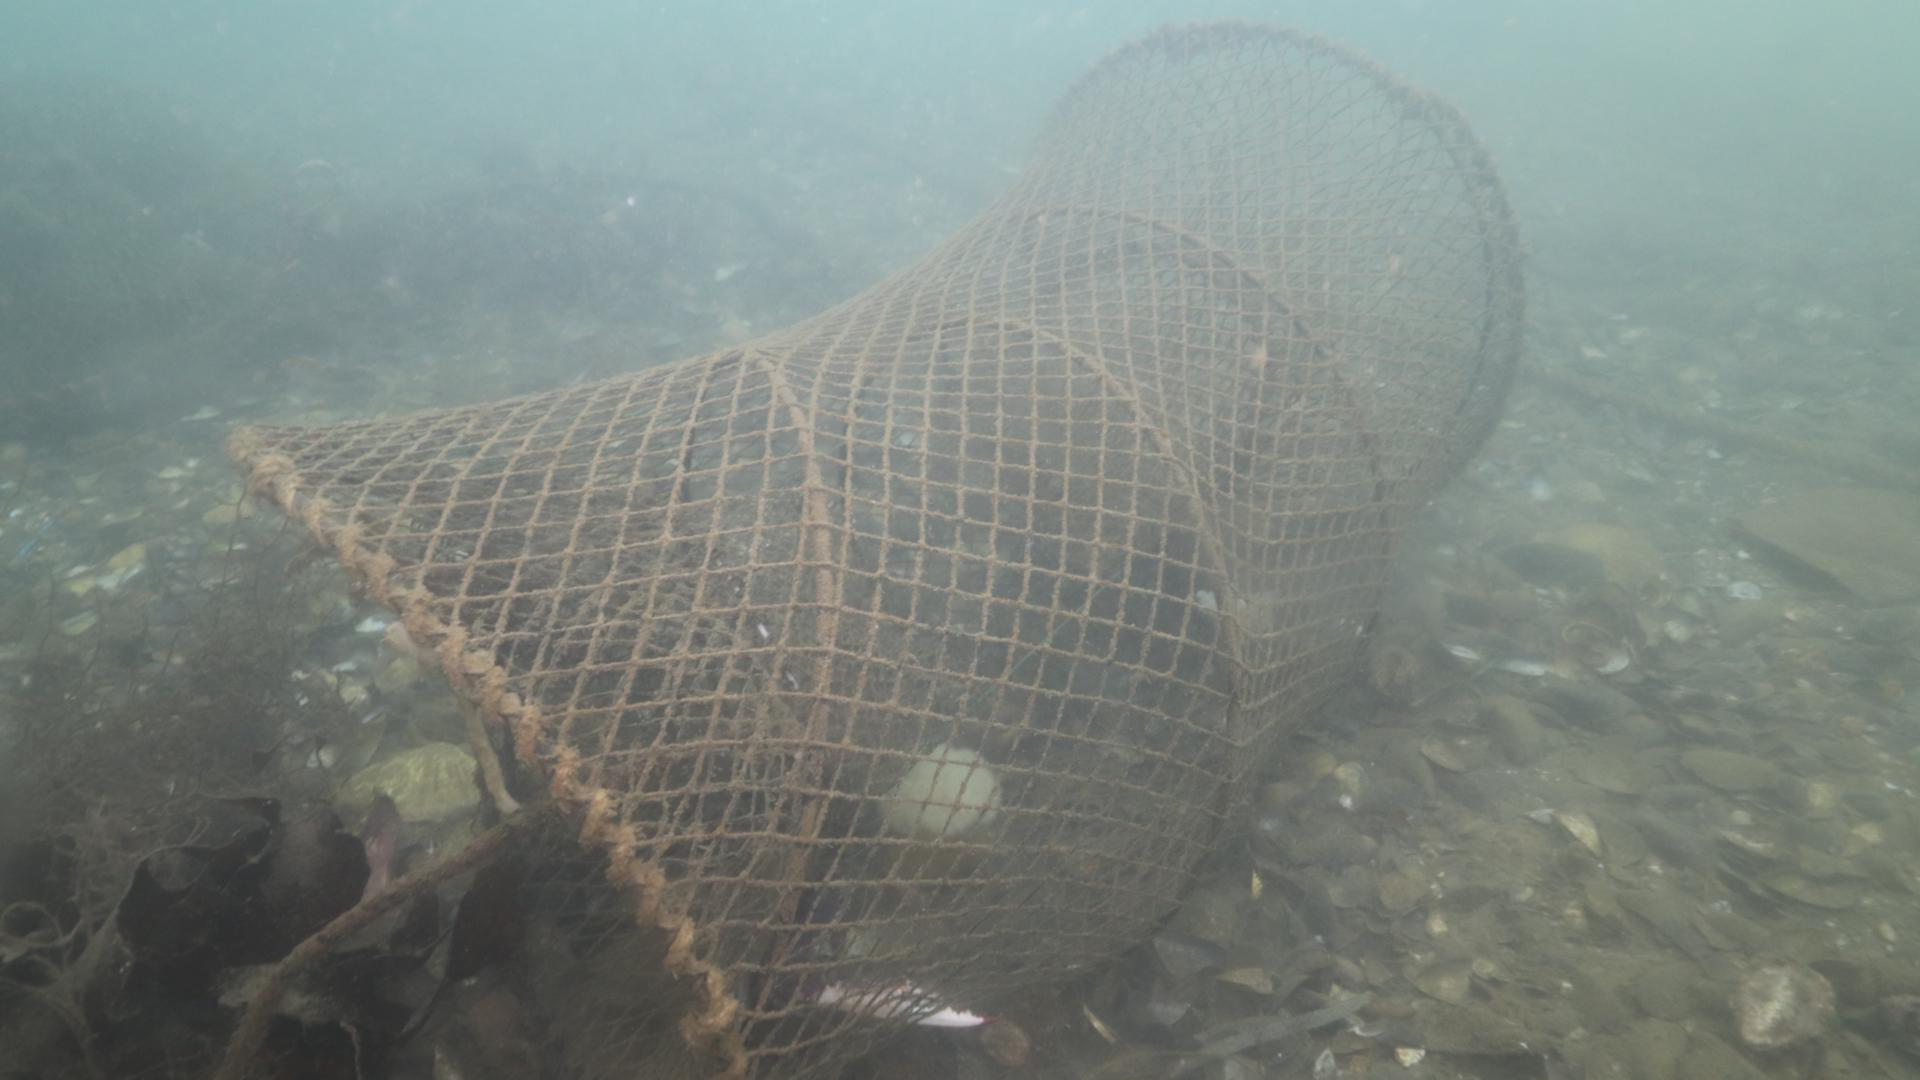spring fish trap: (214, 16, 1528, 1080)
